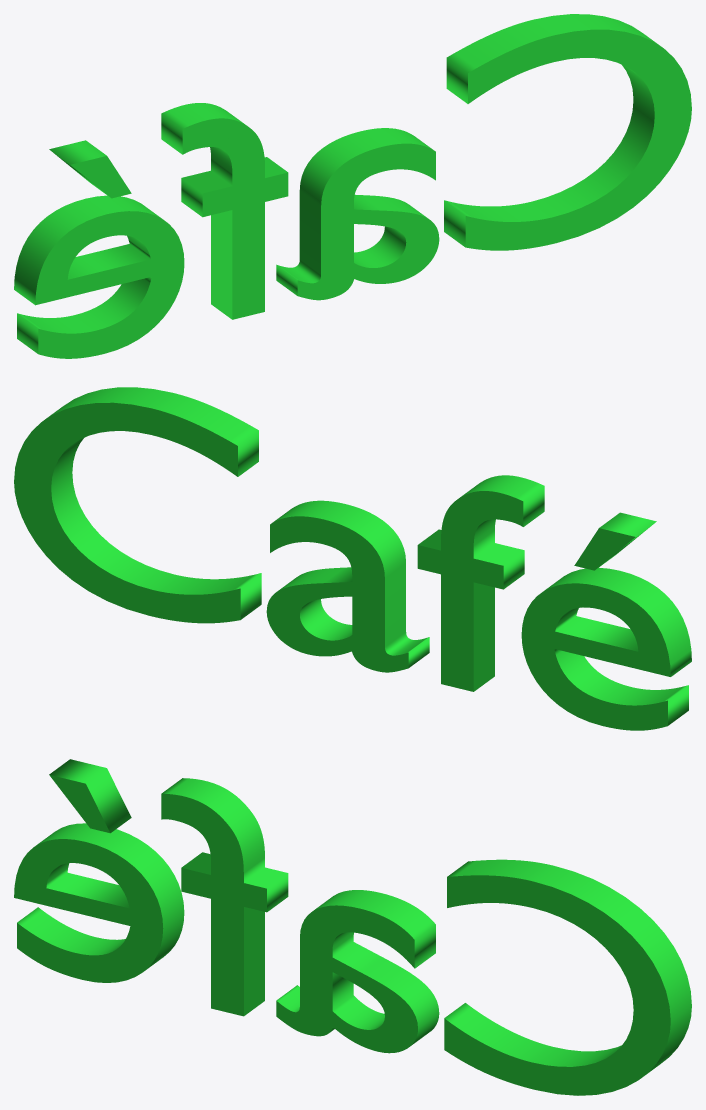
The model's file is cafe name.fbx.
The picture shows the model from 3 angles, top to bottom: view 1: azimuth 30°, elevation 25°; view 2: azimuth 150°, elevation 25°; view 3: azimuth 330°, elevation 25°; orthographic projection.
Parts seen in each view (by area): view 1: Text.004; view 2: Text.004; view 3: Text.004.
Part boxes in pixels (left/top/right/bottom): Text.004: left=14, top=14, right=691, bottom=358; Text.004: left=14, top=387, right=691, bottom=730; Text.004: left=14, top=759, right=691, bottom=1095.
Size of the model in its own units: 2.97 by 0.9014 by 0.1717.
